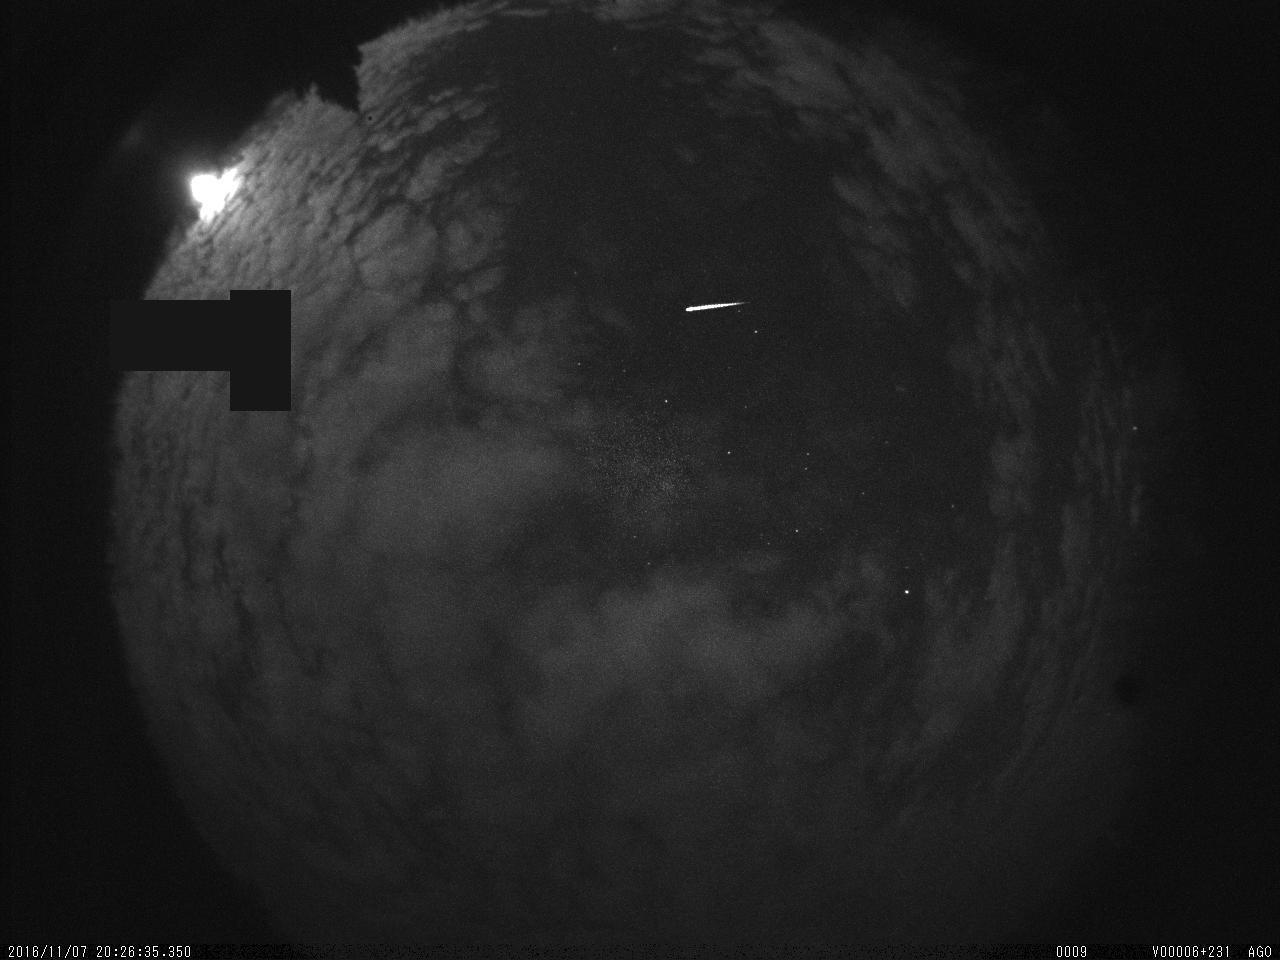Meteor: (682, 298, 748, 315)
